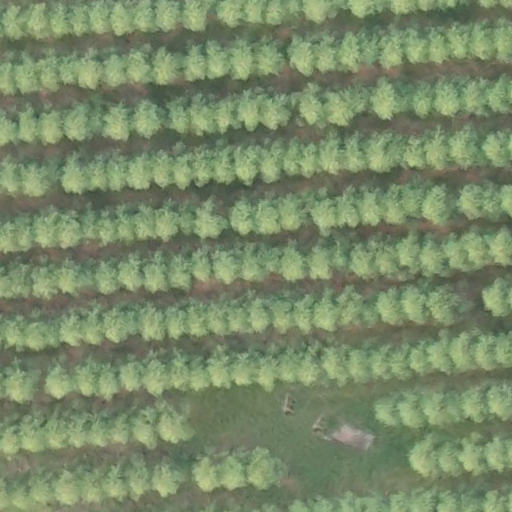eucalipto: (368, 70, 416, 126), (155, 398, 197, 444), (2, 358, 40, 407), (244, 446, 286, 490), (448, 124, 488, 169), (194, 194, 231, 242), (19, 155, 58, 197), (102, 98, 136, 145), (291, 85, 328, 127), (406, 437, 441, 479), (458, 432, 490, 477), (431, 76, 466, 117), (348, 237, 383, 278), (115, 250, 146, 296), (287, 34, 318, 80), (298, 341, 329, 387), (192, 447, 224, 491), (59, 152, 91, 196), (258, 90, 293, 130), (152, 456, 187, 495), (102, 145, 131, 192), (366, 133, 401, 171), (394, 230, 424, 273), (231, 142, 261, 185), (63, 101, 95, 141), (424, 182, 455, 223), (31, 209, 63, 248), (32, 258, 61, 301), (481, 278, 512, 318), (45, 359, 74, 401), (207, 345, 234, 390), (181, 300, 212, 339), (356, 185, 384, 228), (377, 286, 407, 326), (461, 383, 491, 423), (396, 391, 428, 428), (428, 332, 455, 375), (38, 106, 67, 146), (485, 224, 512, 266), (279, 242, 308, 281), (153, 201, 181, 241), (151, 46, 179, 86), (318, 133, 346, 173), (142, 353, 169, 394), (134, 408, 162, 447), (310, 189, 338, 228), (25, 315, 57, 349), (137, 303, 166, 340), (336, 31, 365, 68), (73, 52, 102, 89), (255, 193, 282, 232), (368, 345, 395, 384), (188, 247, 217, 283), (459, 183, 487, 220), (314, 292, 341, 330), (165, 96, 192, 134), (230, 349, 257, 387), (229, 40, 254, 81), (107, 2, 136, 37), (46, 407, 70, 449), (58, 310, 85, 347), (55, 471, 82, 508), (150, 149, 176, 187), (182, 44, 208, 82), (96, 362, 121, 401), (248, 294, 274, 331), (103, 50, 128, 88), (290, 293, 313, 331), (108, 411, 132, 444), (77, 206, 100, 240)
